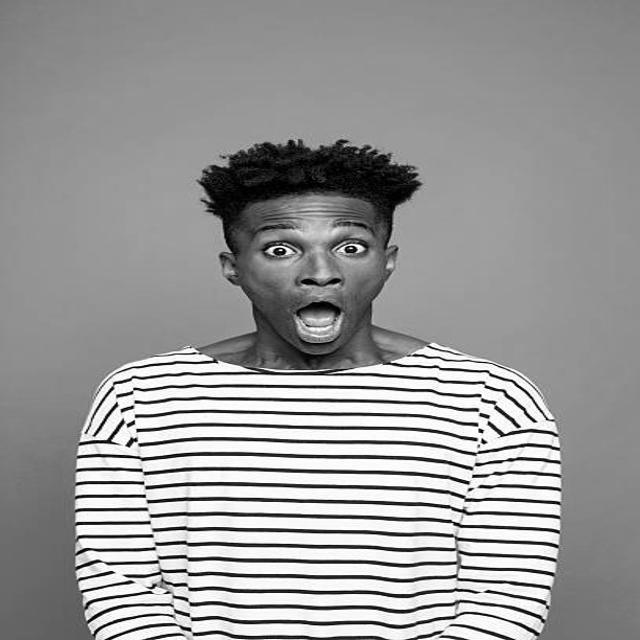Surprised: (236, 195, 398, 361)
